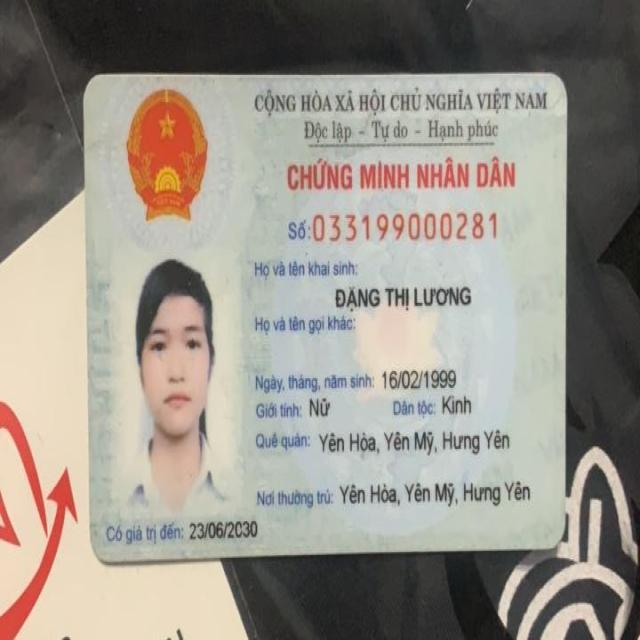bottom_left: (74, 528, 124, 578)
bottom_right: (532, 515, 576, 563)
image_person: (110, 256, 244, 512)
top_left: (74, 66, 108, 106)
top_right: (540, 61, 580, 106)
